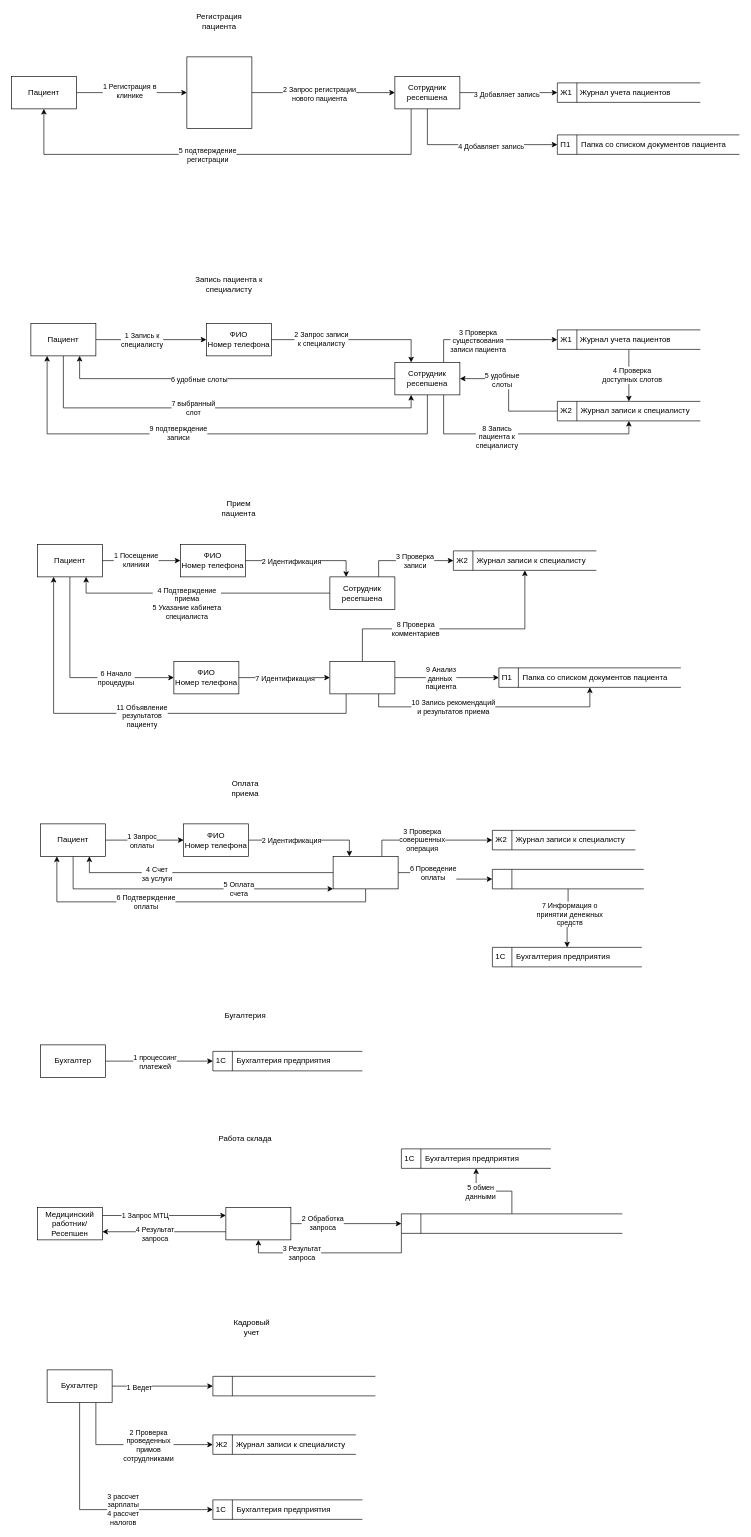
Some shapes in this 751 by 1537 pixel diagram are drawn without their labels. Here are the shapes that lost their labels. From the top down, the box of each, then its label:
(186, 56, 252, 128): ФИО Номер телефона Содержимое расширенной анкеты
(329, 661, 395, 694): Медицинский работник
(332, 856, 398, 889): Кассир
(492, 869, 644, 889): К1 Кассовое оборудование
(225, 1207, 291, 1240): Складской работник
(401, 1213, 622, 1233): 2С Торговля и склад
(212, 1376, 375, 1396): Ж3 Журнал учета сотрудников
